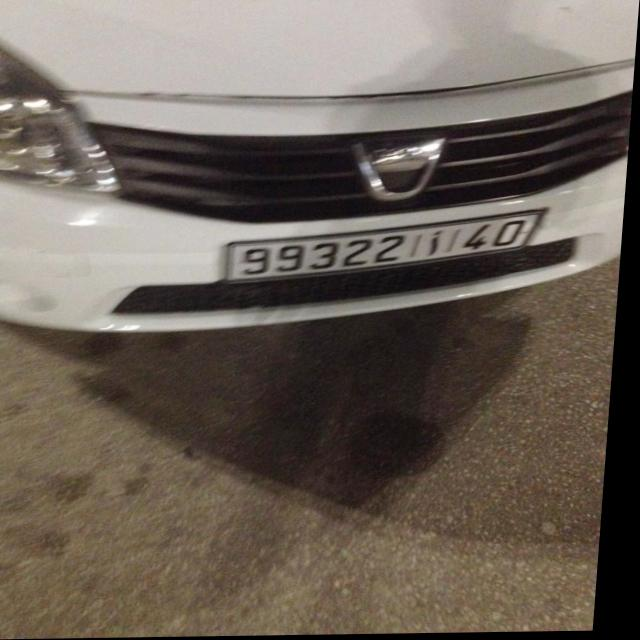License-Plate: (232, 214, 545, 280)
